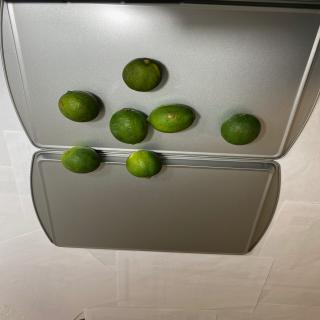Apple: (147, 103, 196, 133), (122, 57, 162, 92)
Lemon: (109, 108, 149, 144), (58, 90, 100, 122), (220, 113, 262, 145), (60, 146, 101, 174), (126, 150, 162, 179)
